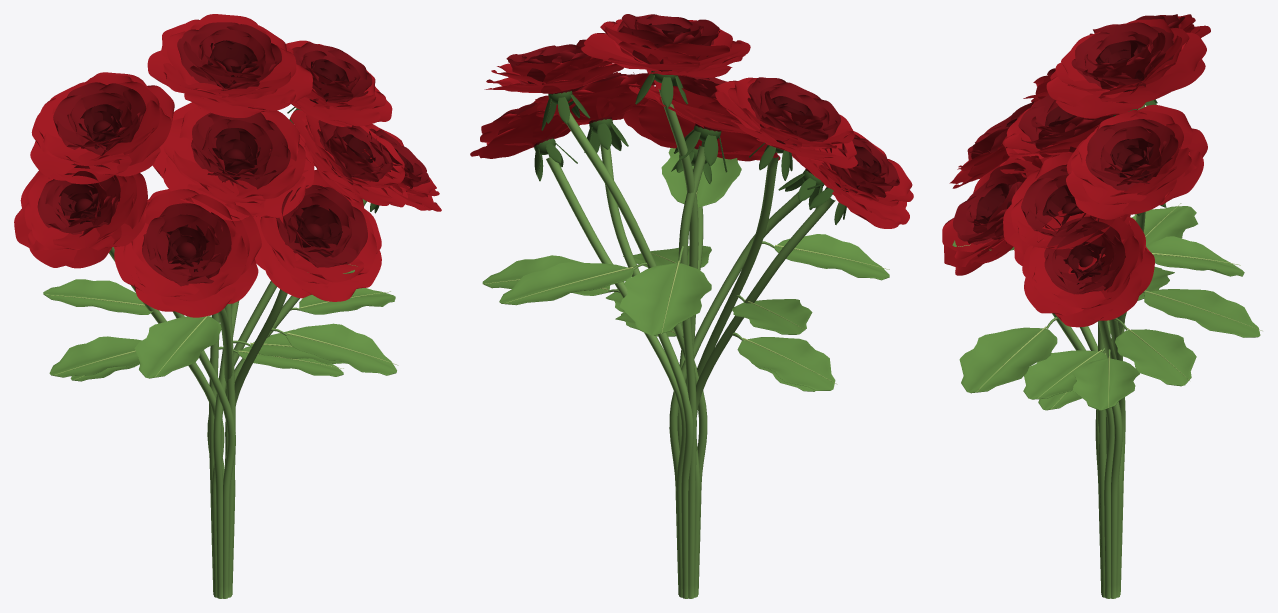
The model's file is rose_cluster.glb.
3 views of the same model, side by side, from view 1: azimuth 30°, elevation 25°; view 2: azimuth 150°, elevation 25°; view 3: azimuth 270°, elevation 25° (orthographic). The views are drawn at different scales.
Parts seen in each view (by area): view 1: Rose_08, Rose_05, Rose_02, Rose_01, Rose_09, Rose_04, Rose_06, Rose_03, Leaf_08, Leaf_09, Leaf_04, Rose_07 (+12 smaller); view 2: Rose_01, Rose_02, Rose_04, Rose_03, Leaf_05, Rose_05, Rose_06, Rose_07, Leaf_03, Leaf_04, Rose_09, Stem_06 (+13 smaller); view 3: Rose_03, Rose_07, Rose_01, Rose_09, Rose_06, Leaf_09, Rose_05, Leaf_03, Leaf_06, Leaf_07, Leaf_10, Leaf_05 (+10 smaller).
Part boxes in pixels (x1,y1,x2,y2): Rose_08: (114,187,261,317); Rose_05: (152,102,314,220); Rose_02: (30,72,174,184); Rose_01: (147,14,312,117); Rose_09: (252,169,381,301); Rose_04: (14,149,147,268); Rose_06: (290,110,409,207); Rose_03: (286,40,392,126); Leaf_08: (134,315,221,378); Leaf_09: (270,323,398,375); Leaf_04: (49,336,141,377); Rose_07: (362,124,441,213); Rose_01: (581,14,750,108); Rose_02: (715,77,857,180); Rose_04: (796,131,913,228); Rose_03: (484,39,623,130); Leaf_05: (619,246,711,335); Rose_05: (629,69,748,172); Rose_06: (533,72,655,152); Rose_07: (470,95,579,181); Leaf_03: (499,262,647,305); Leaf_04: (732,332,837,390); Rose_09: (623,99,780,183); Stem_06: (600,143,693,598); Rose_03: (1066,104,1207,219); Rose_07: (1022,209,1154,327); Rose_01: (1046,19,1206,118); Rose_09: (942,155,1056,275); Rose_06: (1003,152,1130,273); Leaf_09: (959,317,1057,393); Rose_05: (999,94,1137,177); Leaf_03: (1143,289,1262,337); Leaf_06: (1114,318,1196,386); Leaf_07: (1072,349,1139,410); Leaf_10: (1023,347,1107,399); Leaf_05: (1146,236,1244,276).
Size of the model in its own units: 0.3053 by 0.3996 by 0.206.
